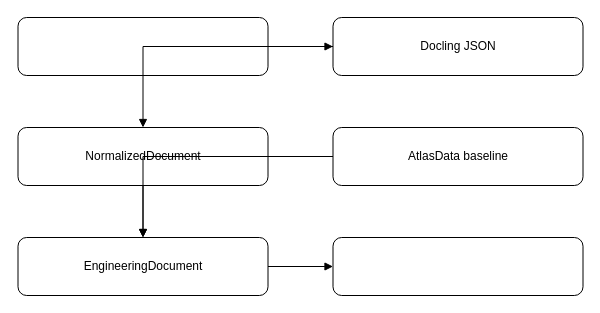
Image size: 600x313. Some labels were removed from this diagram. The centre of each missing label's shape, as x and y in pixels:
Exports: point (457, 266)
PDF: point (142, 46)
